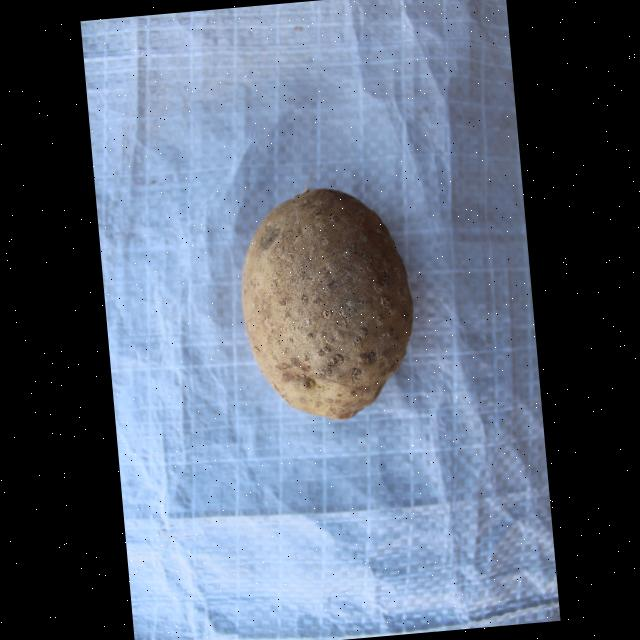Diseased-fungal potato: (225, 177, 424, 430)
